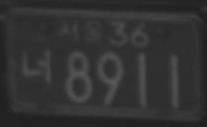1: (160, 52, 189, 110), (129, 50, 157, 110)
3: (104, 18, 129, 48)
6: (129, 20, 150, 49)
8: (63, 48, 94, 105)
9: (94, 50, 125, 105)
너: (18, 47, 53, 86)
서울_O: (57, 18, 104, 45)
